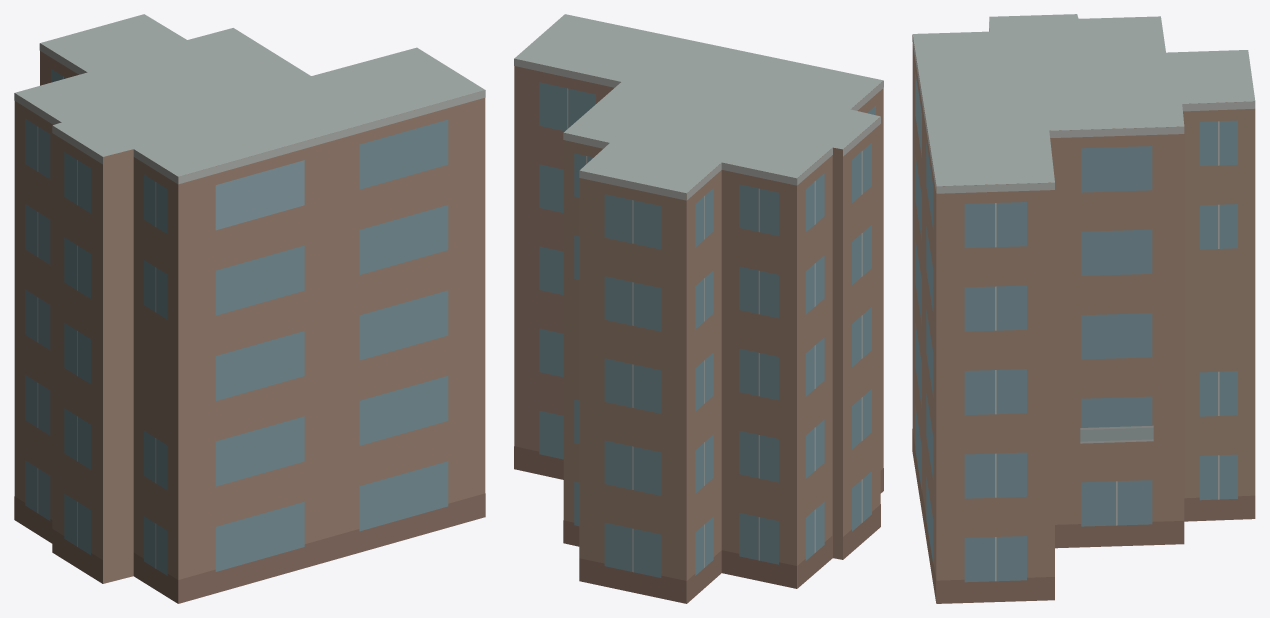
File: survey-upis-32926053.glb
The picture shows the model from 3 angles, left to right: view 1: azimuth 30°, elevation 25°; view 2: azimuth 150°, elevation 25°; view 3: azimuth 270°, elevation 25°; orthographic projection. The views are drawn at different scales.
Visible parts, largest first — view 1: survey-upis-32926053.tmp; view 2: survey-upis-32926053.tmp; view 3: survey-upis-32926053.tmp.
Part boxes in pixels (x1,y1,x2,y2): survey-upis-32926053.tmp: (14, 14, 485, 603); survey-upis-32926053.tmp: (514, 14, 883, 603); survey-upis-32926053.tmp: (912, 14, 1255, 603).
Size of the model in its own units: 12.13 by 13.7 by 10.2.
